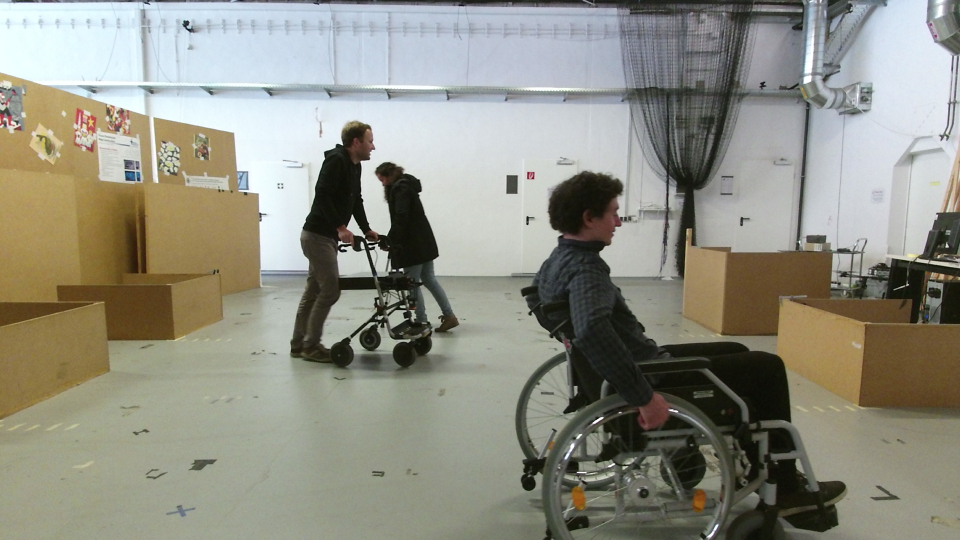wheelchair: (503, 167, 848, 540)
